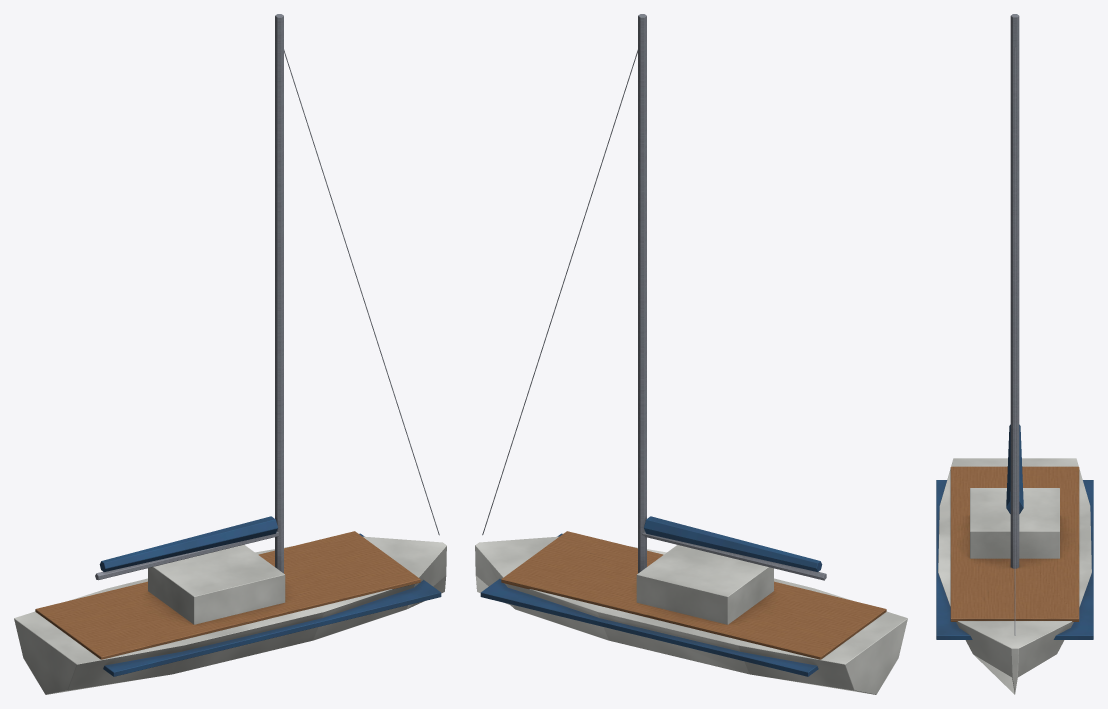
File: segelbat_forto_tex.glb
The picture shows the model from 3 angles, left to right: view 1: azimuth 30°, elevation 25°; view 2: azimuth 150°, elevation 25°; view 3: azimuth 270°, elevation 25°; orthographic projection. The views are drawn at different scales.
Visible parts, largest first — view 1: segelbat_forto; view 2: segelbat_forto; view 3: segelbat_forto.
Boxes of the visible parts, x1=… form: segelbat_forto: x1=14, y1=14, x2=446, y2=694; segelbat_forto: x1=475, y1=14, x2=907, y2=694; segelbat_forto: x1=936, y1=14, x2=1093, y2=694.
Bounding box in the file's own units: 7 × 10.55 × 2.45.
Materials: 4 (4 with a texture image).
